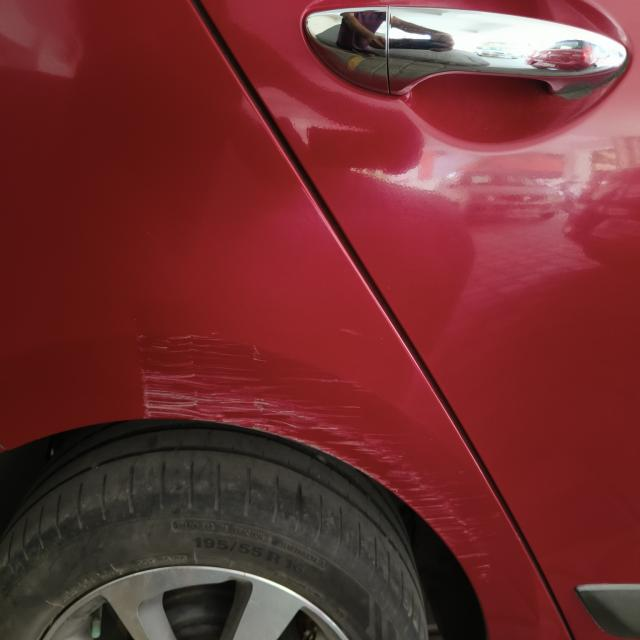scratch: (216, 415, 496, 592), (137, 322, 377, 415)
